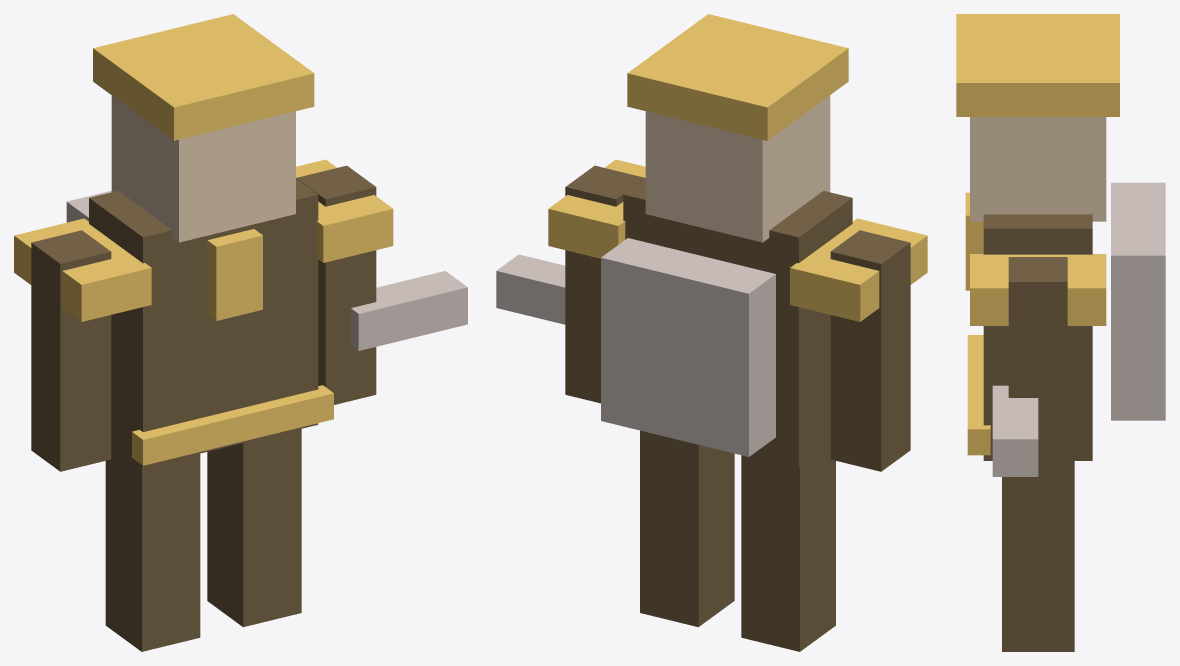
File: 10_draven_riftwalker_sentinel_near.glb
3 renders of one model, left to right at view 1: azimuth 30°, elevation 25°; view 2: azimuth 150°, elevation 25°; view 3: azimuth 270°, elevation 25°, orthographic.
Parts seen in each view (by area): view 1: Draven Riftwalker, Sentinel near; view 2: Draven Riftwalker, Sentinel near; view 3: Draven Riftwalker, Sentinel near.
Boxes of the visible parts, x1,y1,x2,y2 form: Draven Riftwalker, Sentinel near: (14, 14, 467, 651); Draven Riftwalker, Sentinel near: (496, 14, 927, 651); Draven Riftwalker, Sentinel near: (956, 14, 1165, 651).
Bounding box in the file's own units: 1.07 × 1.42 × 0.4781.
